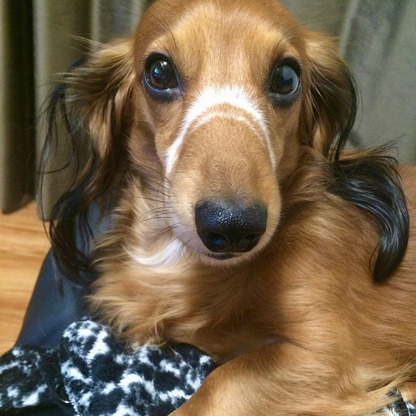dachshund: (60, 11, 386, 387)
